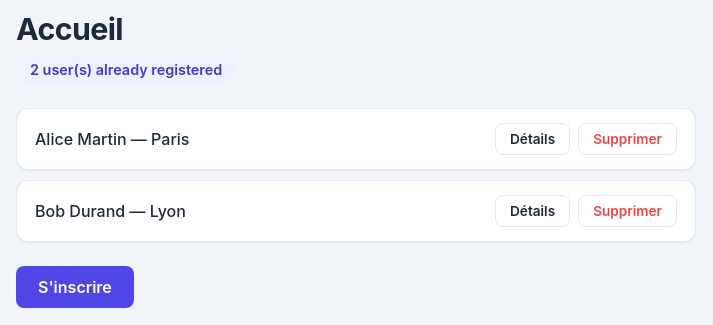
Test case: HomePage › mode admin › supprime un utilisateur et recharge la liste
Click the button with test id "delete-2". click: (628, 211)
box: [578, 195, 677, 227]
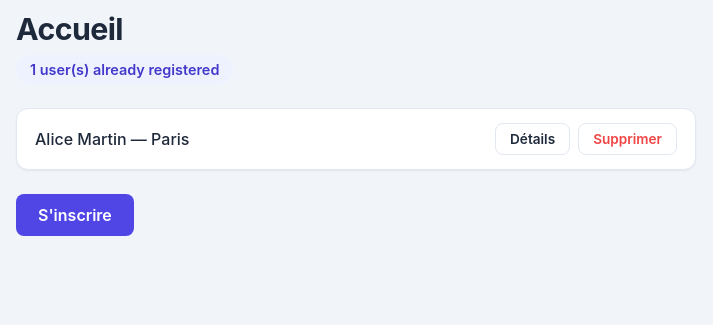
Check: the text "1 user(s) already registered" is shown, box [16, 55, 233, 84]
